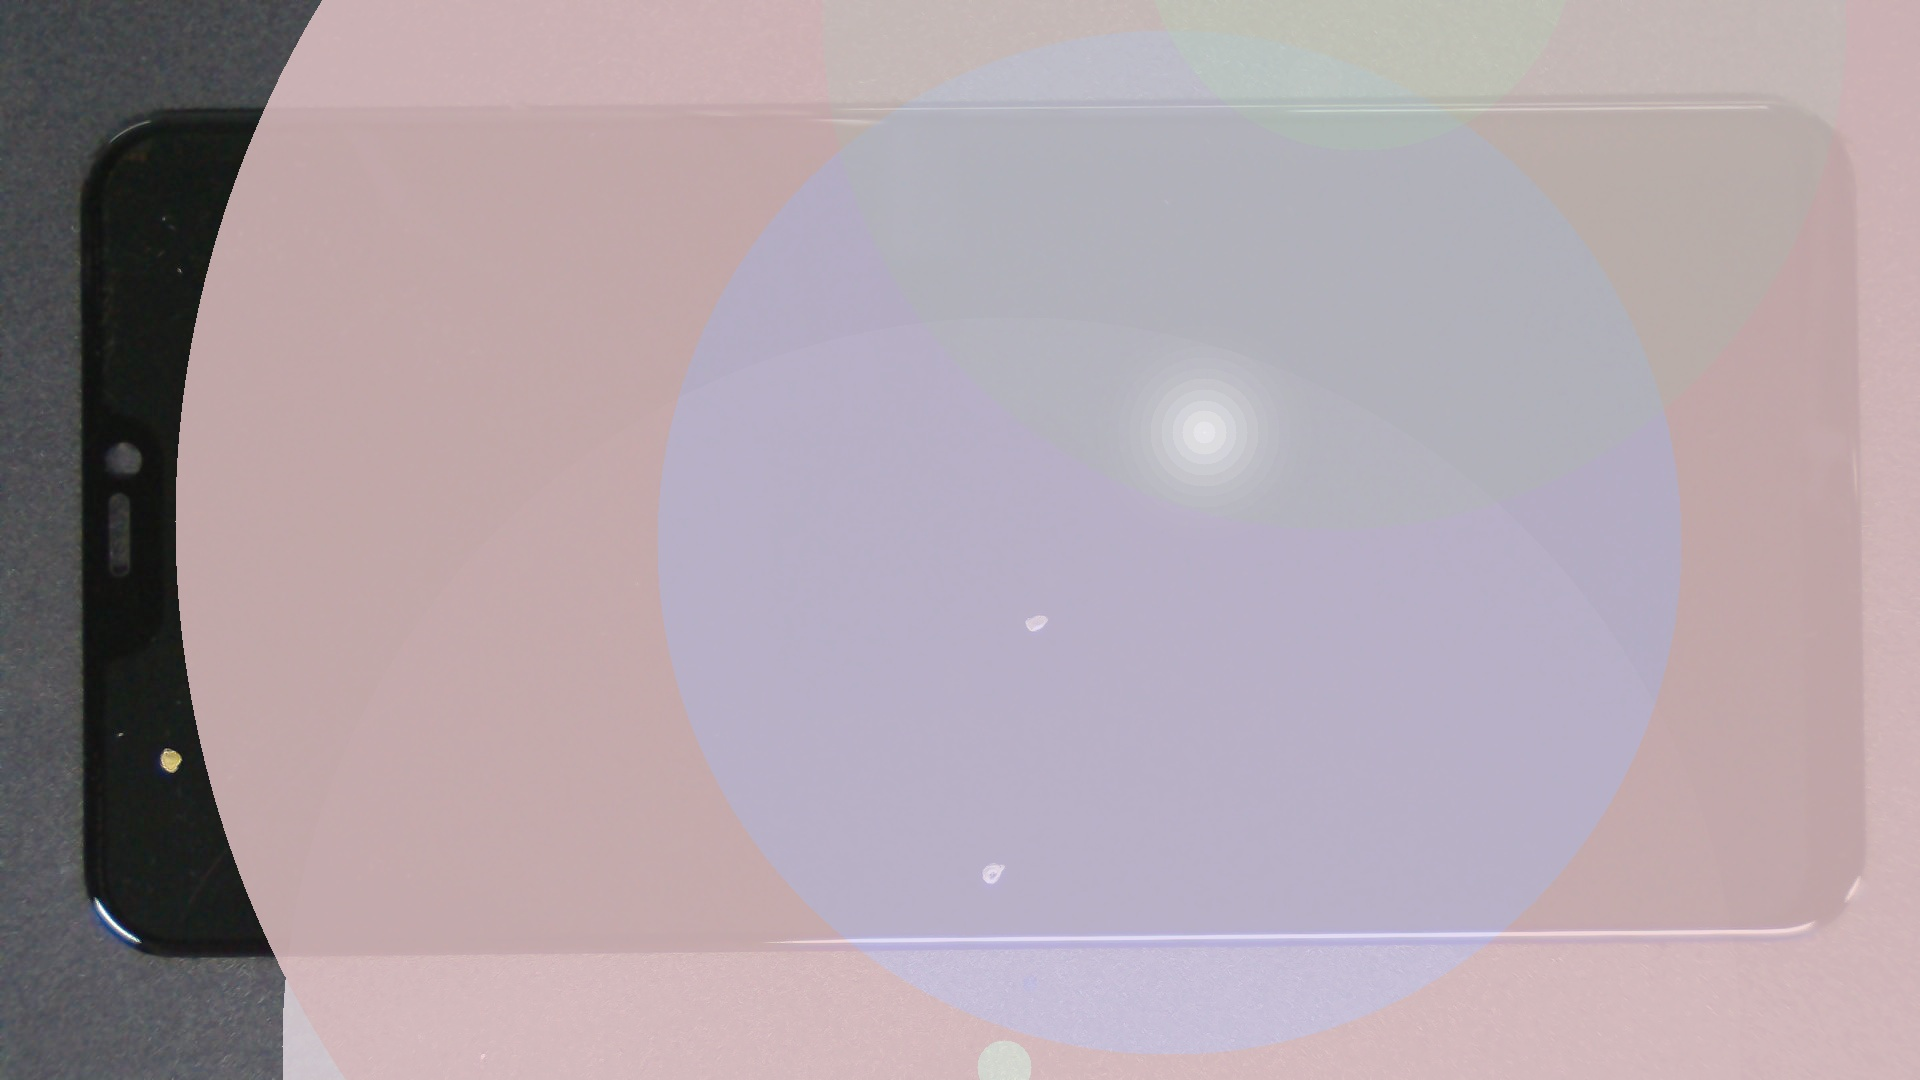oil: (498, 429, 1495, 1080), (518, 306, 1553, 920), (83, 372, 247, 1080)
